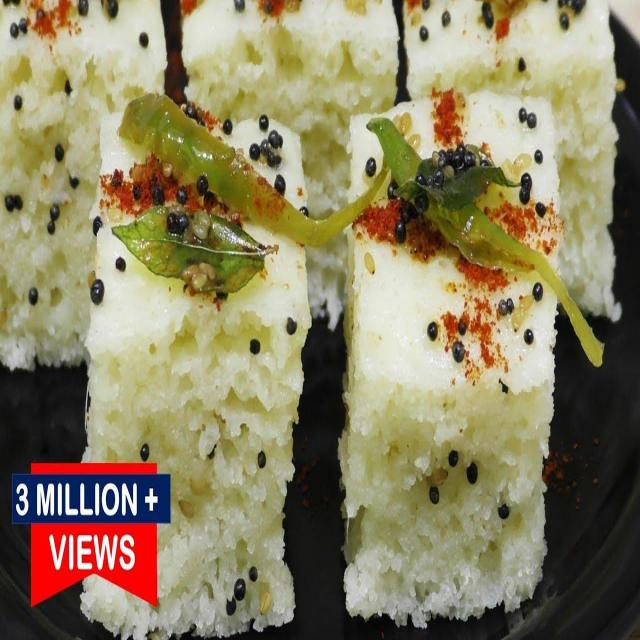dhokla: (8, 0, 633, 625)
